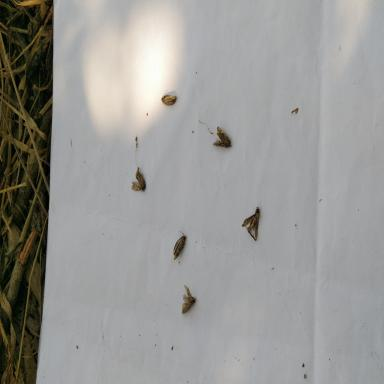pbw: (242, 206, 259, 241), (212, 126, 232, 148), (182, 284, 196, 314), (174, 231, 186, 260), (132, 170, 146, 192), (161, 89, 177, 106)
